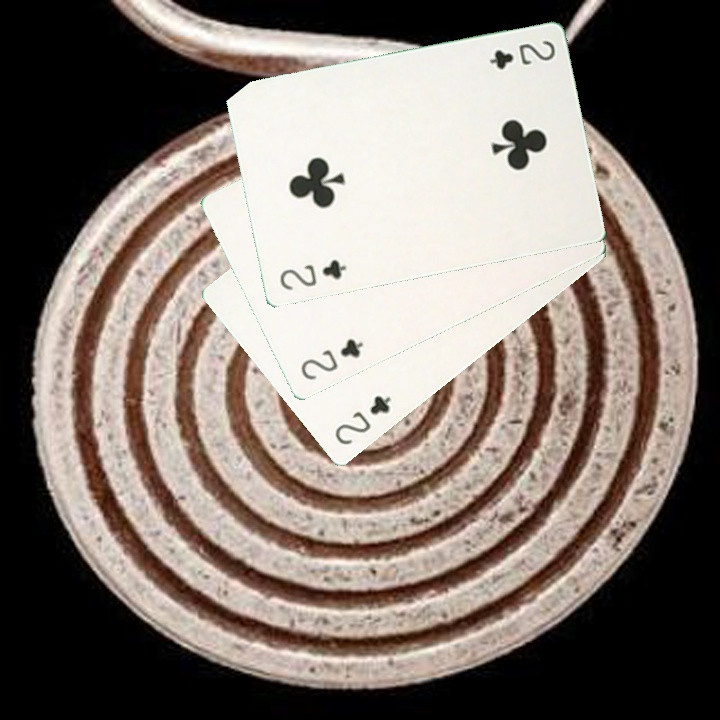2c: (330, 391, 394, 448), (296, 334, 366, 383), (276, 255, 349, 293), (485, 36, 558, 72)
